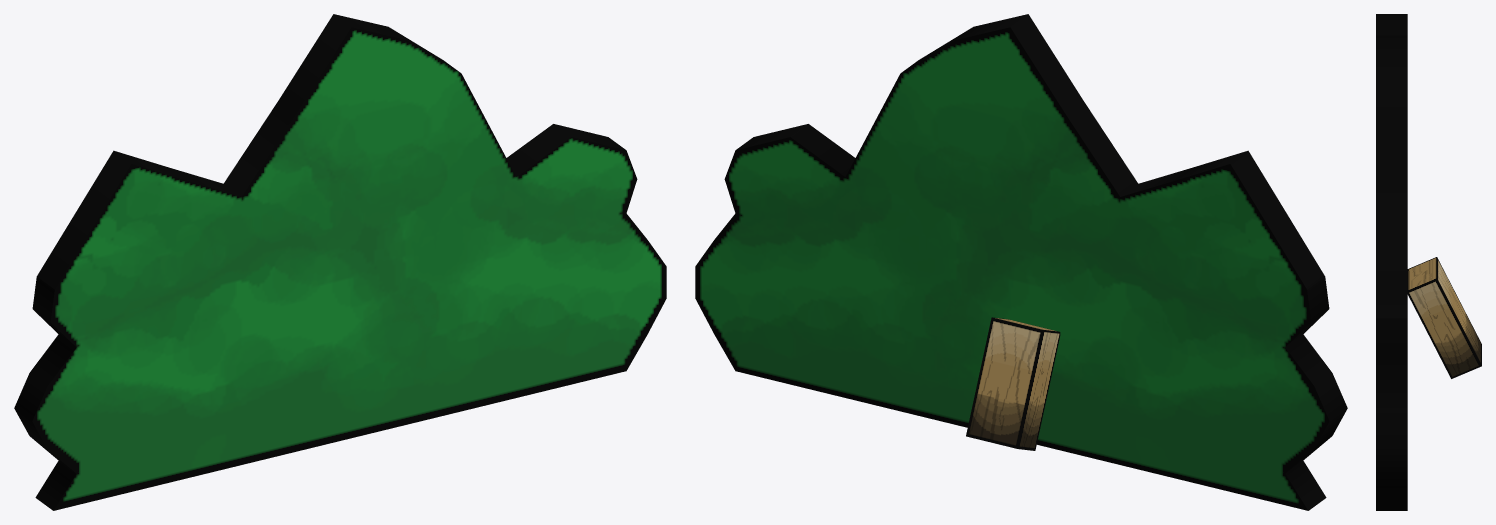
The model's file is Bush.FBX.
3 views of the same model, side by side, from view 1: azimuth 30°, elevation 25°; view 2: azimuth 150°, elevation 25°; view 3: azimuth 270°, elevation 25° (orthographic). The views are drawn at different scales.
Parts seen in each view (by area): view 1: Box003; view 2: Box003, Box002; view 3: Box003, Box002.
Part boxes in pixels (x1,y1,x2,y2): Box003: [14, 14, 666, 510]; Box003: [695, 14, 1347, 510]; Box002: [966, 317, 1060, 450]; Box003: [1376, 14, 1407, 510]; Box002: [1407, 257, 1481, 378].
Size of the model in its own units: 758 by 469 by 126.
